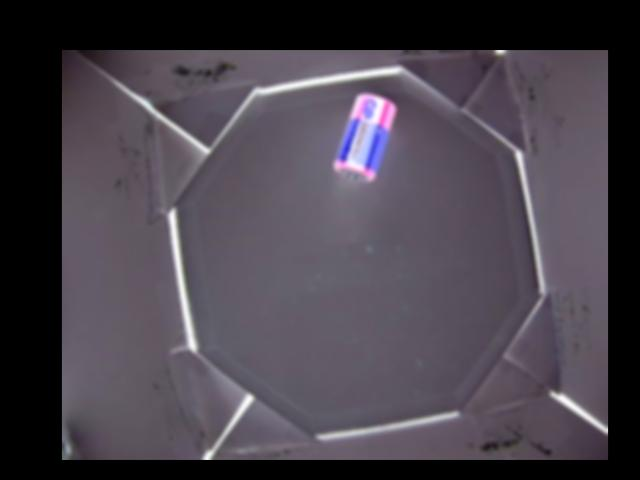Battery: (331, 93, 397, 182)
